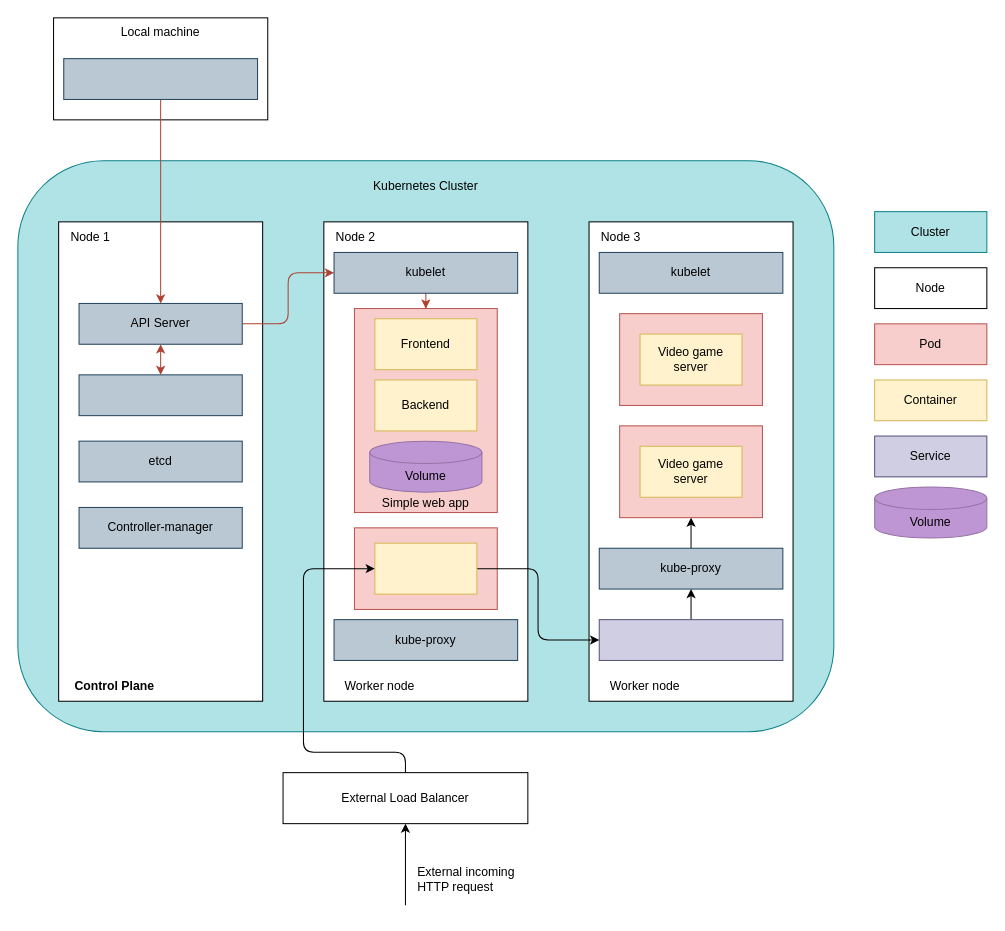
Image size: 1005x931. Some labels were removed from this diagram. The shapes that lost their labels are listed below. From the top down, each one's centre as x and y in pixels, then its label:
At point 160,78: "Kubectl".
At point 160,395: "Scheduler".
At point 425,568: "Ingress controller".
At point 690,639: "Video Game Service".
